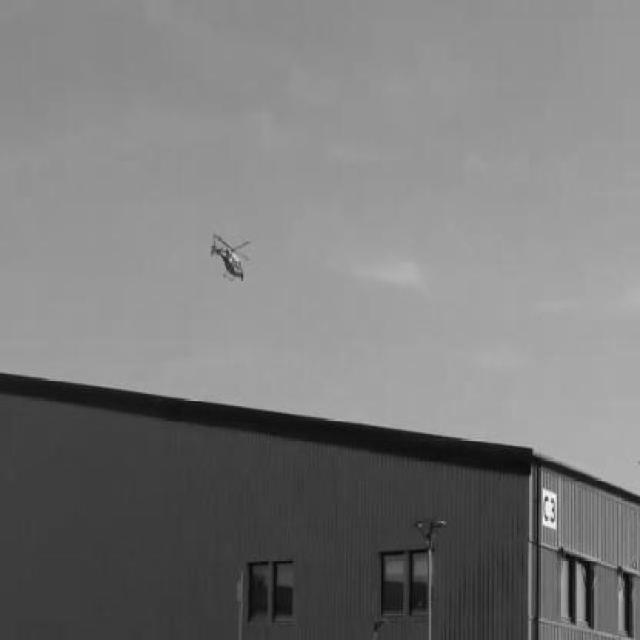helikopter: (200, 222, 258, 292)
